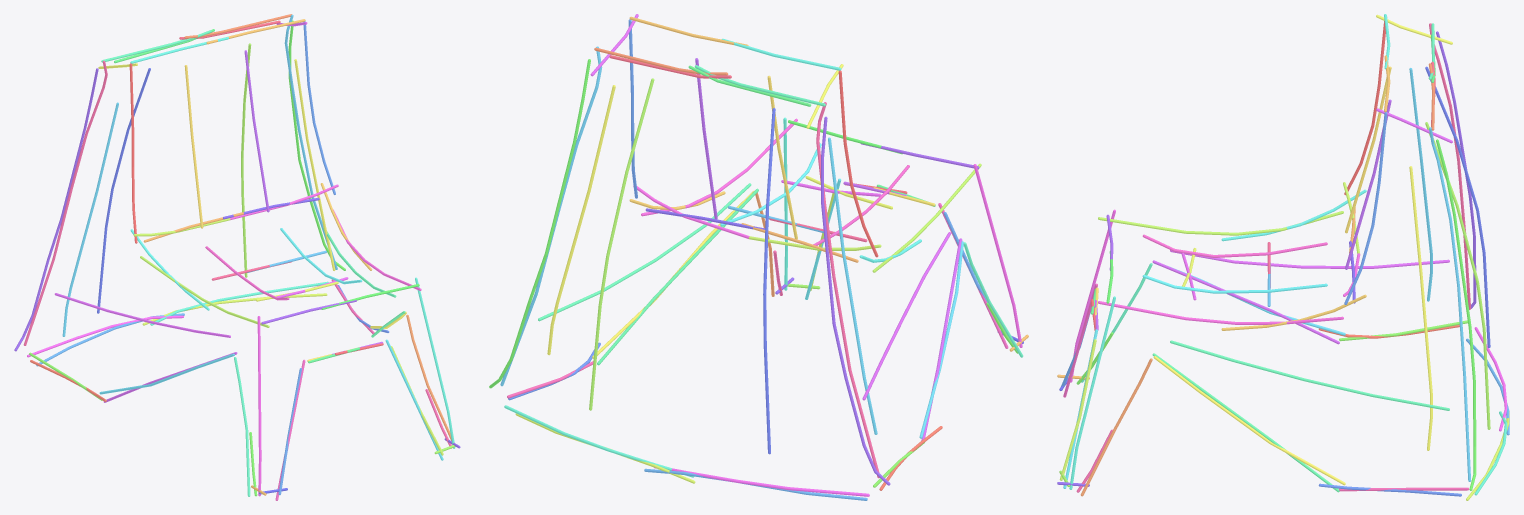
Rendered from author1_chair_ff.gltf.
3 views of the same model, side by side, from view 1: azimuth 30°, elevation 25°; view 2: azimuth 150°, elevation 25°; view 3: azimuth 270°, elevation 25° (orthographic). The views are drawn at different scales.
Size of the model in its own units: 0.5774 by 0.5619 by 0.6033.
